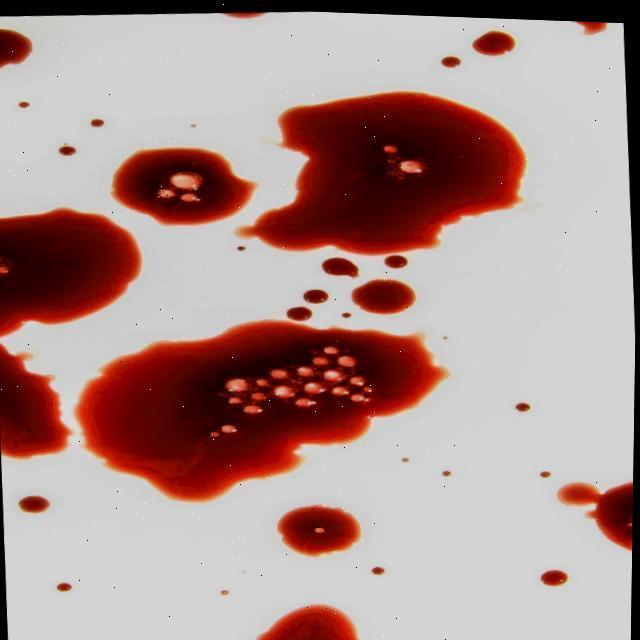knife: (76, 317, 452, 502), (235, 89, 528, 254), (0, 207, 143, 338), (110, 146, 260, 225), (0, 344, 74, 459), (278, 502, 362, 555), (256, 601, 362, 640), (595, 482, 633, 551), (352, 279, 417, 315), (0, 30, 33, 68), (471, 30, 515, 56), (555, 482, 599, 507), (322, 256, 359, 278), (19, 496, 52, 514), (541, 570, 569, 586), (575, 22, 609, 35), (287, 306, 314, 320), (304, 289, 329, 304), (221, 13, 270, 20), (384, 255, 408, 268), (441, 55, 461, 68), (58, 146, 76, 156), (515, 401, 531, 412), (57, 582, 72, 592), (371, 566, 385, 575), (585, 510, 596, 521), (91, 118, 104, 126), (539, 471, 551, 478), (342, 311, 351, 320), (18, 101, 29, 108)
